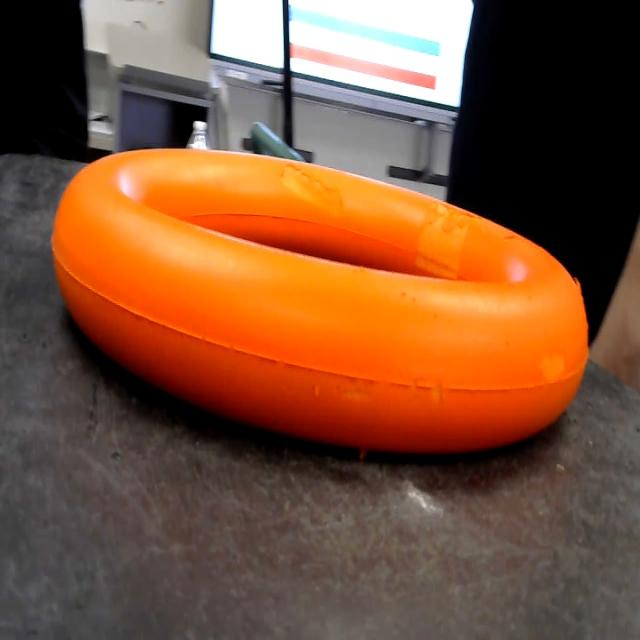note: (40, 113, 634, 492)
